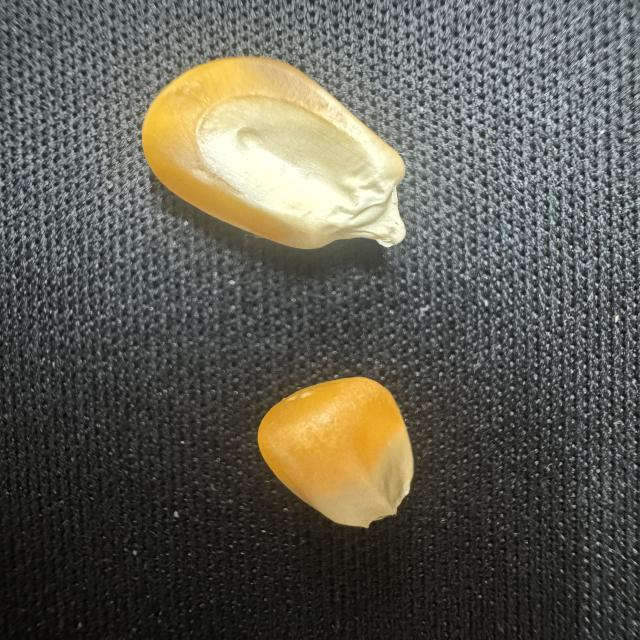Bad-Seed: (250, 368, 426, 538)
Good-Seed: (138, 46, 426, 260)
